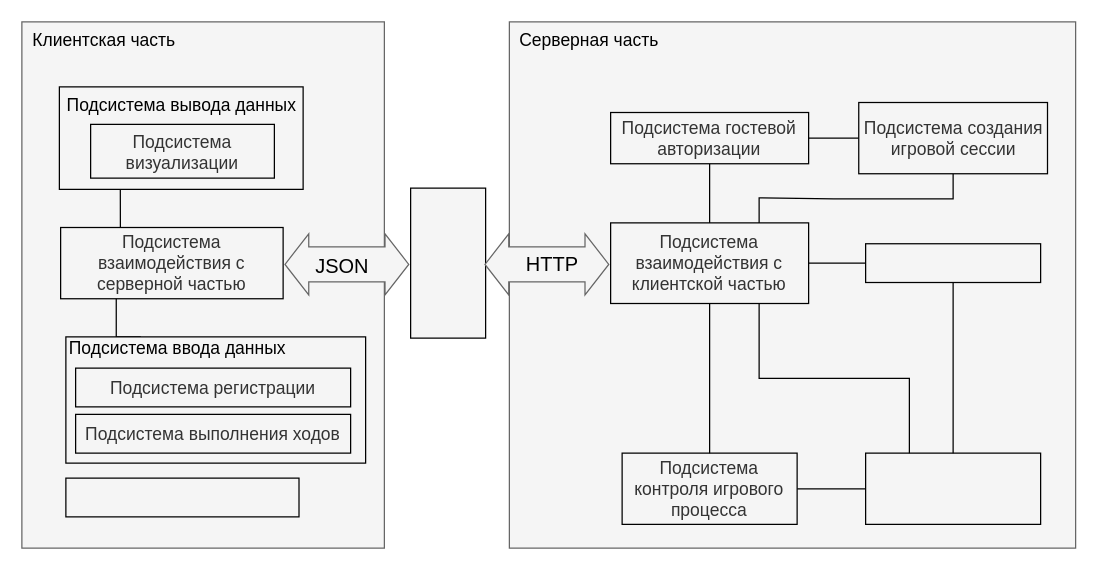
The diagram is 1098 pixels wide and 570 high, and some of its shapes have lost their labels. The shapes that lost their labels are listed below. From the top down, each one's centre as x and y in pixels, then its label:
point 447,262: HTTP методы
point 952,262: Подсистема "Банк"
point 182,497: Справочная подсистема
point 952,488: Подсистема ведения лога игры
